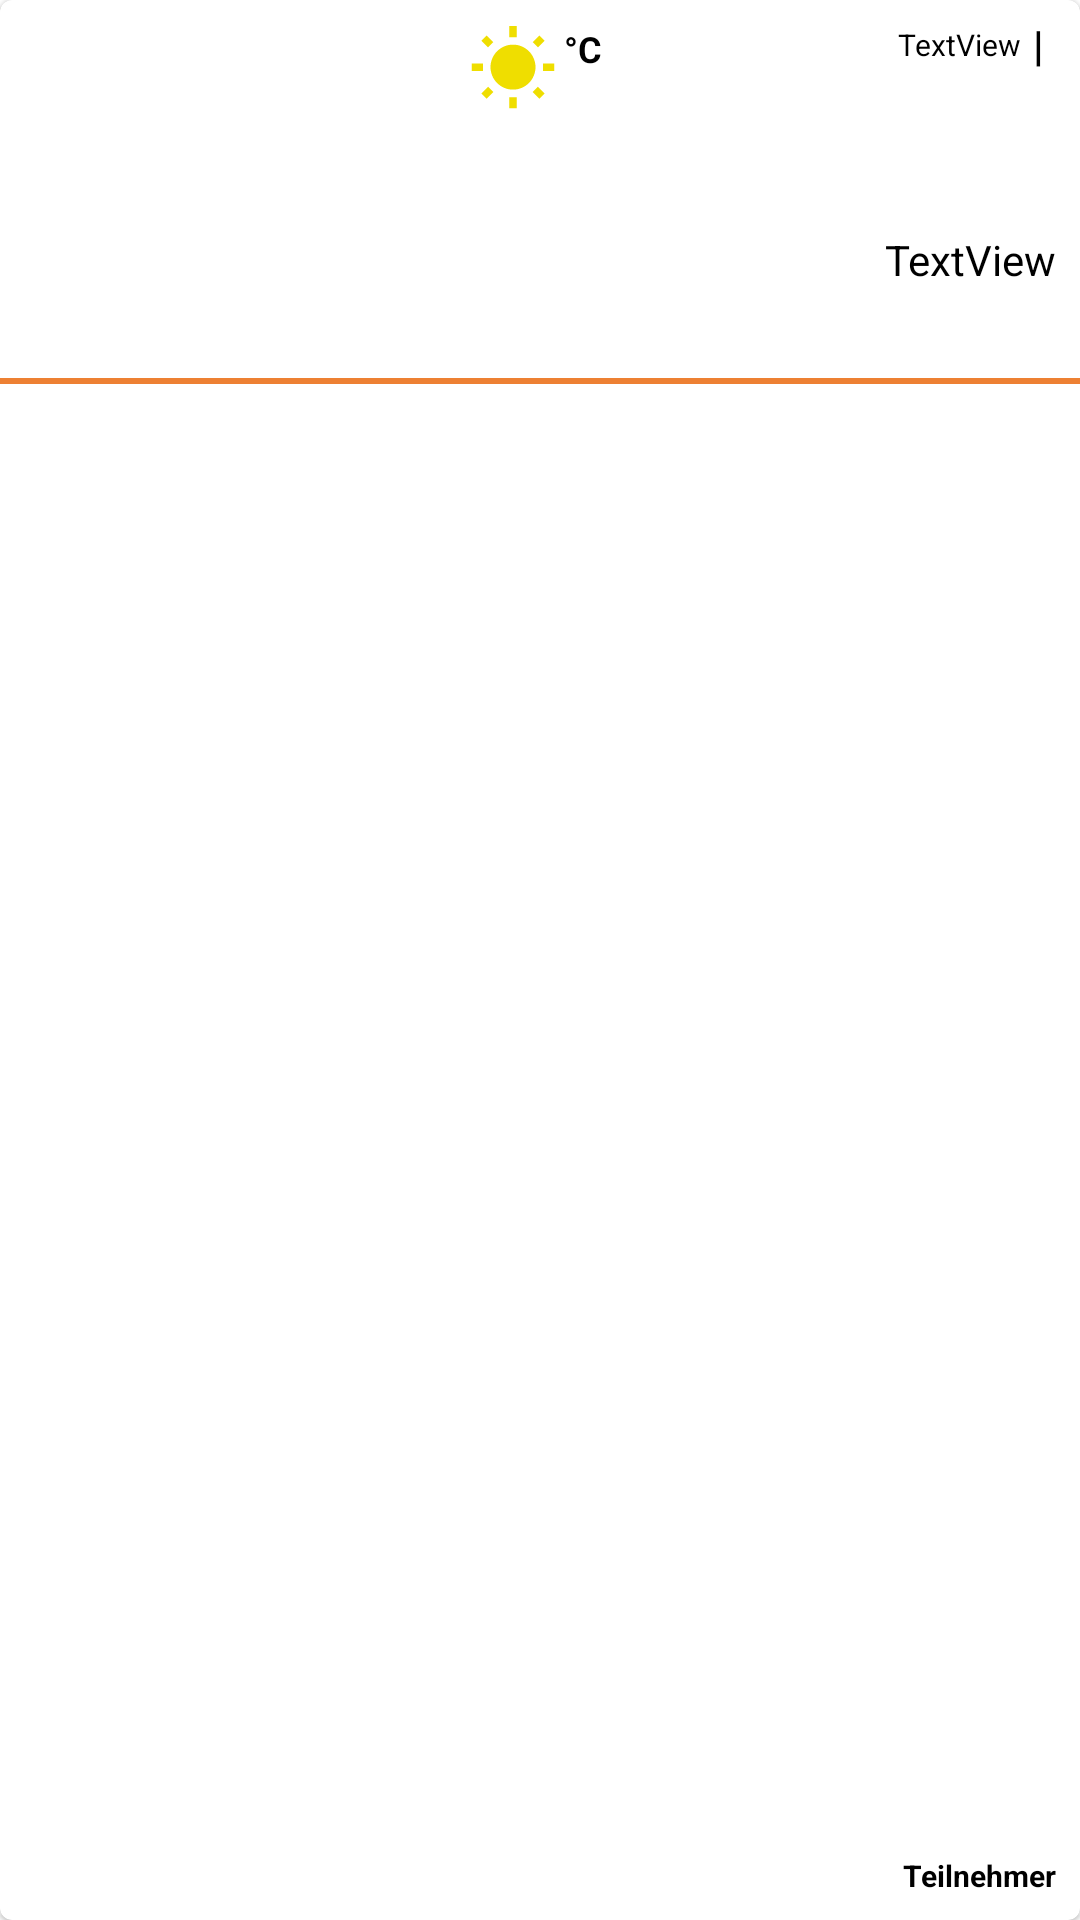

Icon bounding boxes for this 1080x1920 phone screenshot, format (x1, y1, x2, y2):
sunny: (471, 26, 555, 109)
